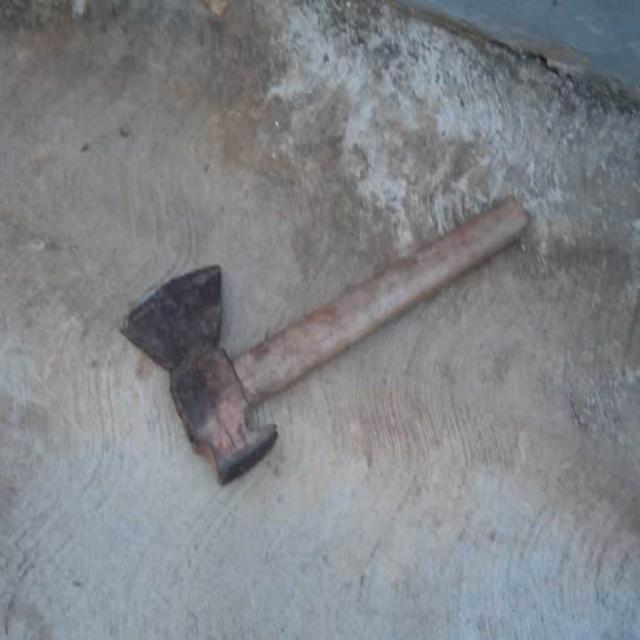Axe: (124, 198, 529, 482)
